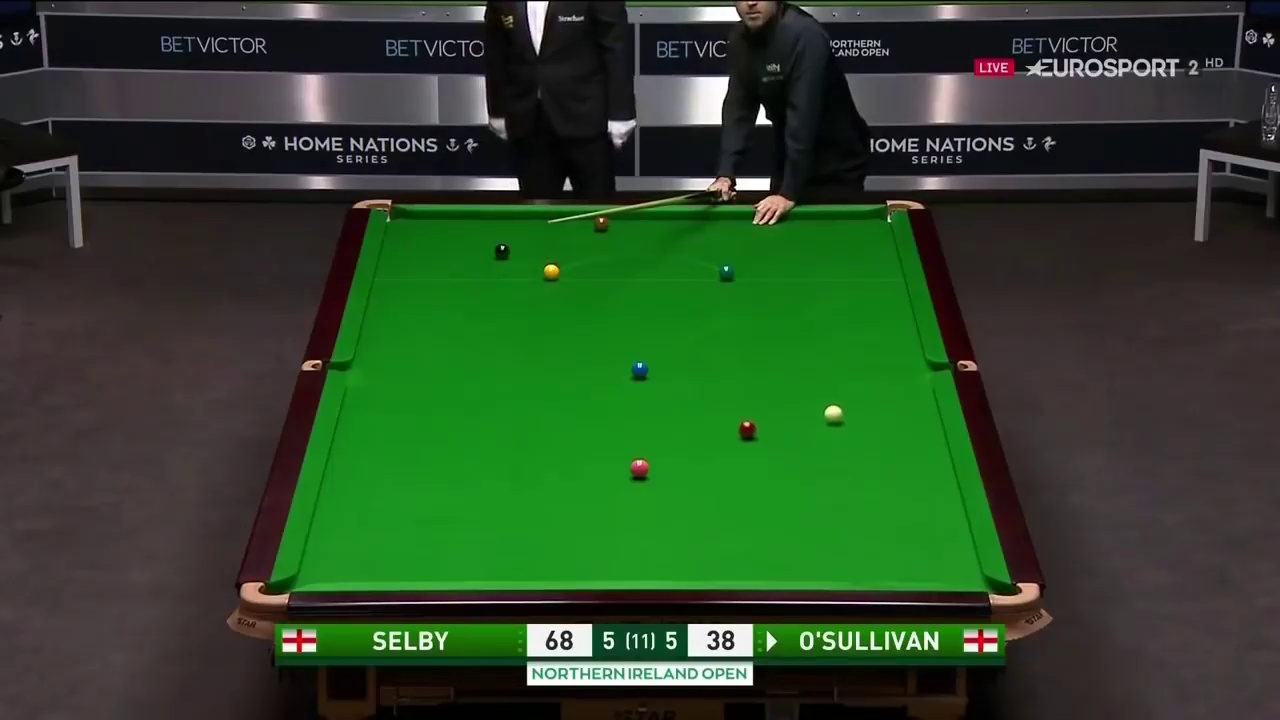black: (492, 243, 510, 260)
blue: (630, 360, 648, 377)
brown: (592, 218, 610, 232)
green: (718, 264, 736, 282)
pink: (628, 458, 649, 478)
red: (737, 422, 757, 439)
white: (821, 404, 844, 426)
yellow: (543, 261, 558, 282)
